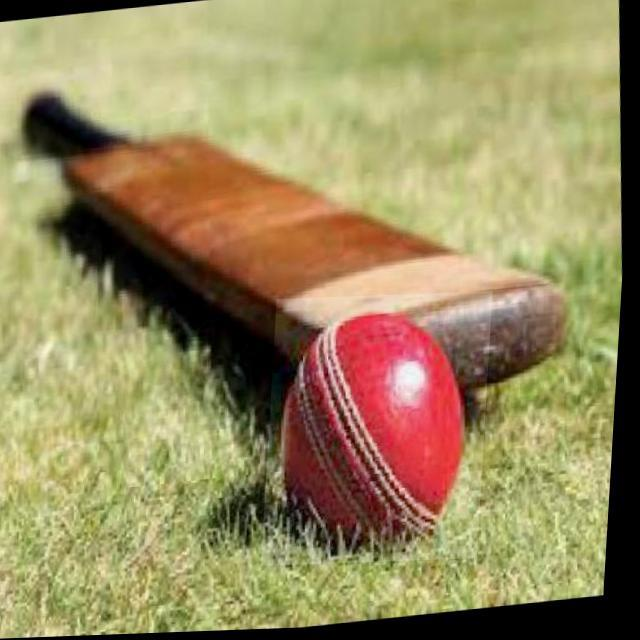Red_Ball: (258, 315, 471, 558)
